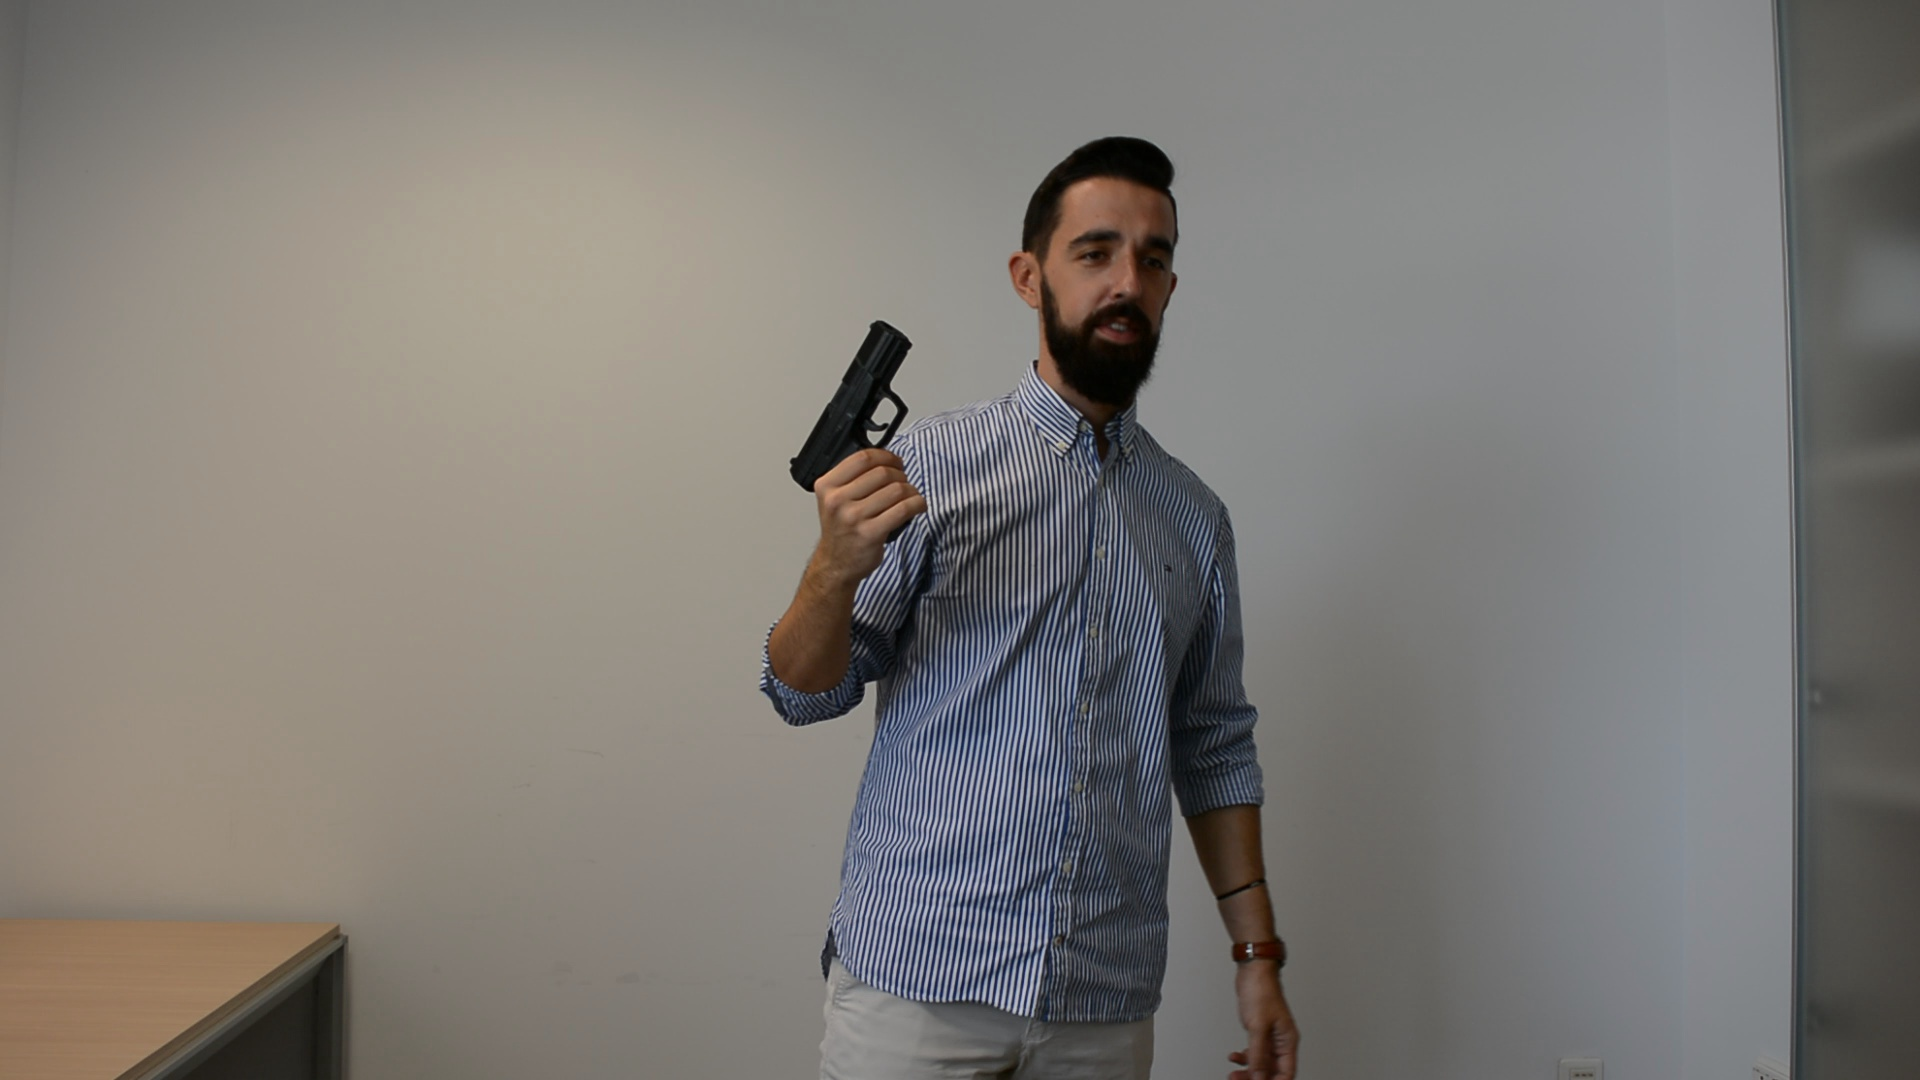pistol: (787, 316, 928, 543)
